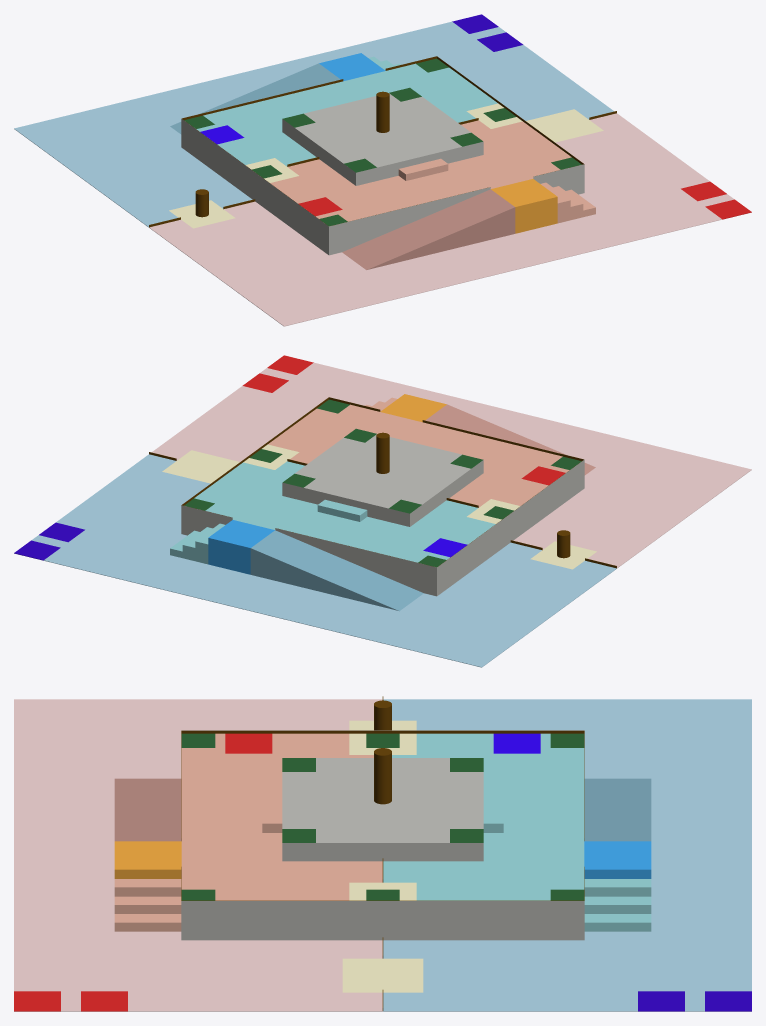
The model's file is robocon2027.dae.
3 views of the same model, one above another, from view 1: azimuth 30°, elevation 25°; view 2: azimuth 150°, elevation 25°; view 3: azimuth 270°, elevation 25° (orthographic). The views are drawn at different scales.
Parts seen in each view (by area): view 1: node2, node3, node16, node17, node1, node24, node11, node27, node4, node22, node7, node8 (+11 smaller); view 2: node3, node2, node17, node16, node1, node24, node13, node27, node4, node23, node8, node7 (+11 smaller); view 3: node2, node3, node16, node17, node1, node24, node11, node13, node7, node8, node27, node10 (+16 smaller).
Boxes of the visible parts, box(x1,y1,x2,y2) form: node2: box(149, 113, 734, 315); node3: box(57, 21, 613, 227); node16: box(270, 120, 571, 221); node17: box(196, 63, 497, 166); node1: box(181, 118, 584, 255); node24: box(295, 93, 470, 167); node11: box(342, 189, 515, 269); node27: box(282, 119, 483, 185); node4: box(169, 109, 603, 228); node22: box(491, 179, 557, 233); node7: box(235, 280, 326, 326); node8: box(14, 118, 104, 164); node3: box(31, 454, 616, 656); node2: box(152, 362, 708, 568); node17: box(194, 461, 495, 562); node16: box(268, 404, 569, 507); node1: box(181, 459, 584, 596); node24: box(295, 434, 470, 508); node13: box(250, 530, 423, 610); node27: box(282, 460, 483, 526); node4: box(162, 450, 596, 569); node23: box(208, 520, 274, 574); node8: box(439, 621, 530, 667); node7: box(661, 459, 751, 505); node2: box(14, 699, 382, 1011); node3: box(383, 699, 751, 1011); node16: box(181, 733, 382, 900); node17: box(383, 733, 584, 900); node1: box(181, 730, 584, 940); node24: box(282, 758, 483, 842); node11: box(114, 778, 181, 841); node13: box(584, 778, 651, 841); node7: box(14, 699, 148, 727); node8: box(617, 699, 751, 727); node27: box(282, 843, 483, 861); node10: box(114, 879, 181, 931).
Size of the model in its own units: 11 by 11 by 1.71.
